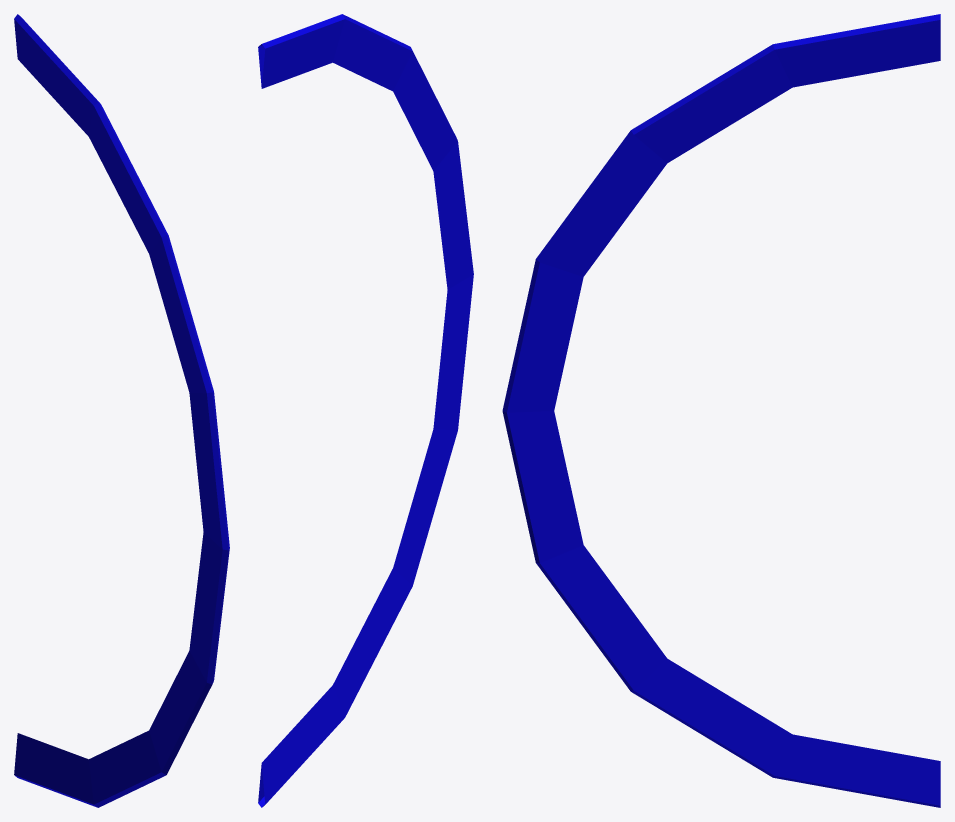
3 renders of one model, left to right at view 1: azimuth 30°, elevation 25°; view 2: azimuth 150°, elevation 25°; view 3: azimuth 270°, elevation 25°, orthographic. The views are drawn at different scales.
Parts seen in each view (by area): view 1: YZ; view 2: YZ; view 3: YZ.
Boxes of the visible parts, left/top/right/bottom form: YZ: left=14, top=14, right=229, bottom=807; YZ: left=258, top=14, right=473, bottom=807; YZ: left=502, top=14, right=940, bottom=807.
Bounding box in the file's own units: 0.02 × 2.02 × 1.01.
